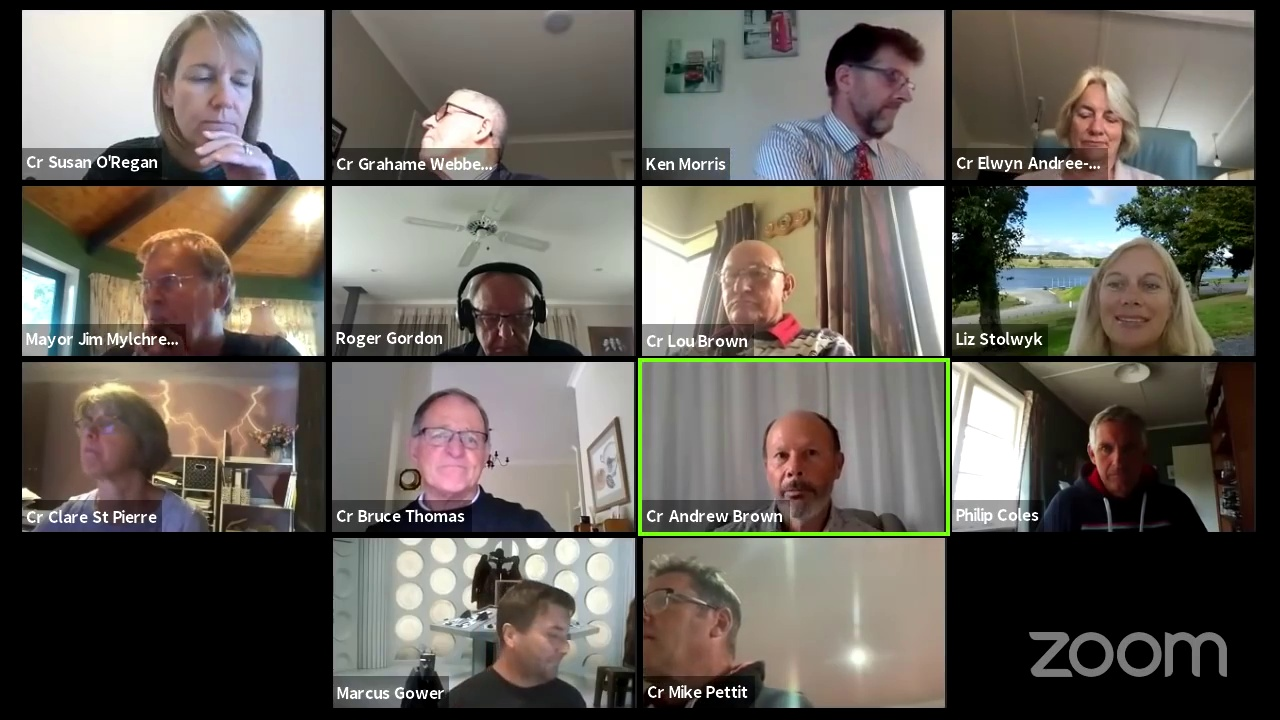Distracted: (160, 21, 254, 148), (131, 229, 229, 339), (825, 30, 926, 134), (645, 574, 734, 682), (71, 378, 157, 484), (451, 267, 545, 355), (494, 587, 575, 673), (416, 88, 498, 166), (1061, 67, 1130, 150)
Not Distracted: (407, 388, 495, 497), (1092, 247, 1175, 341), (766, 419, 842, 508), (717, 243, 789, 323), (1093, 411, 1143, 492)
